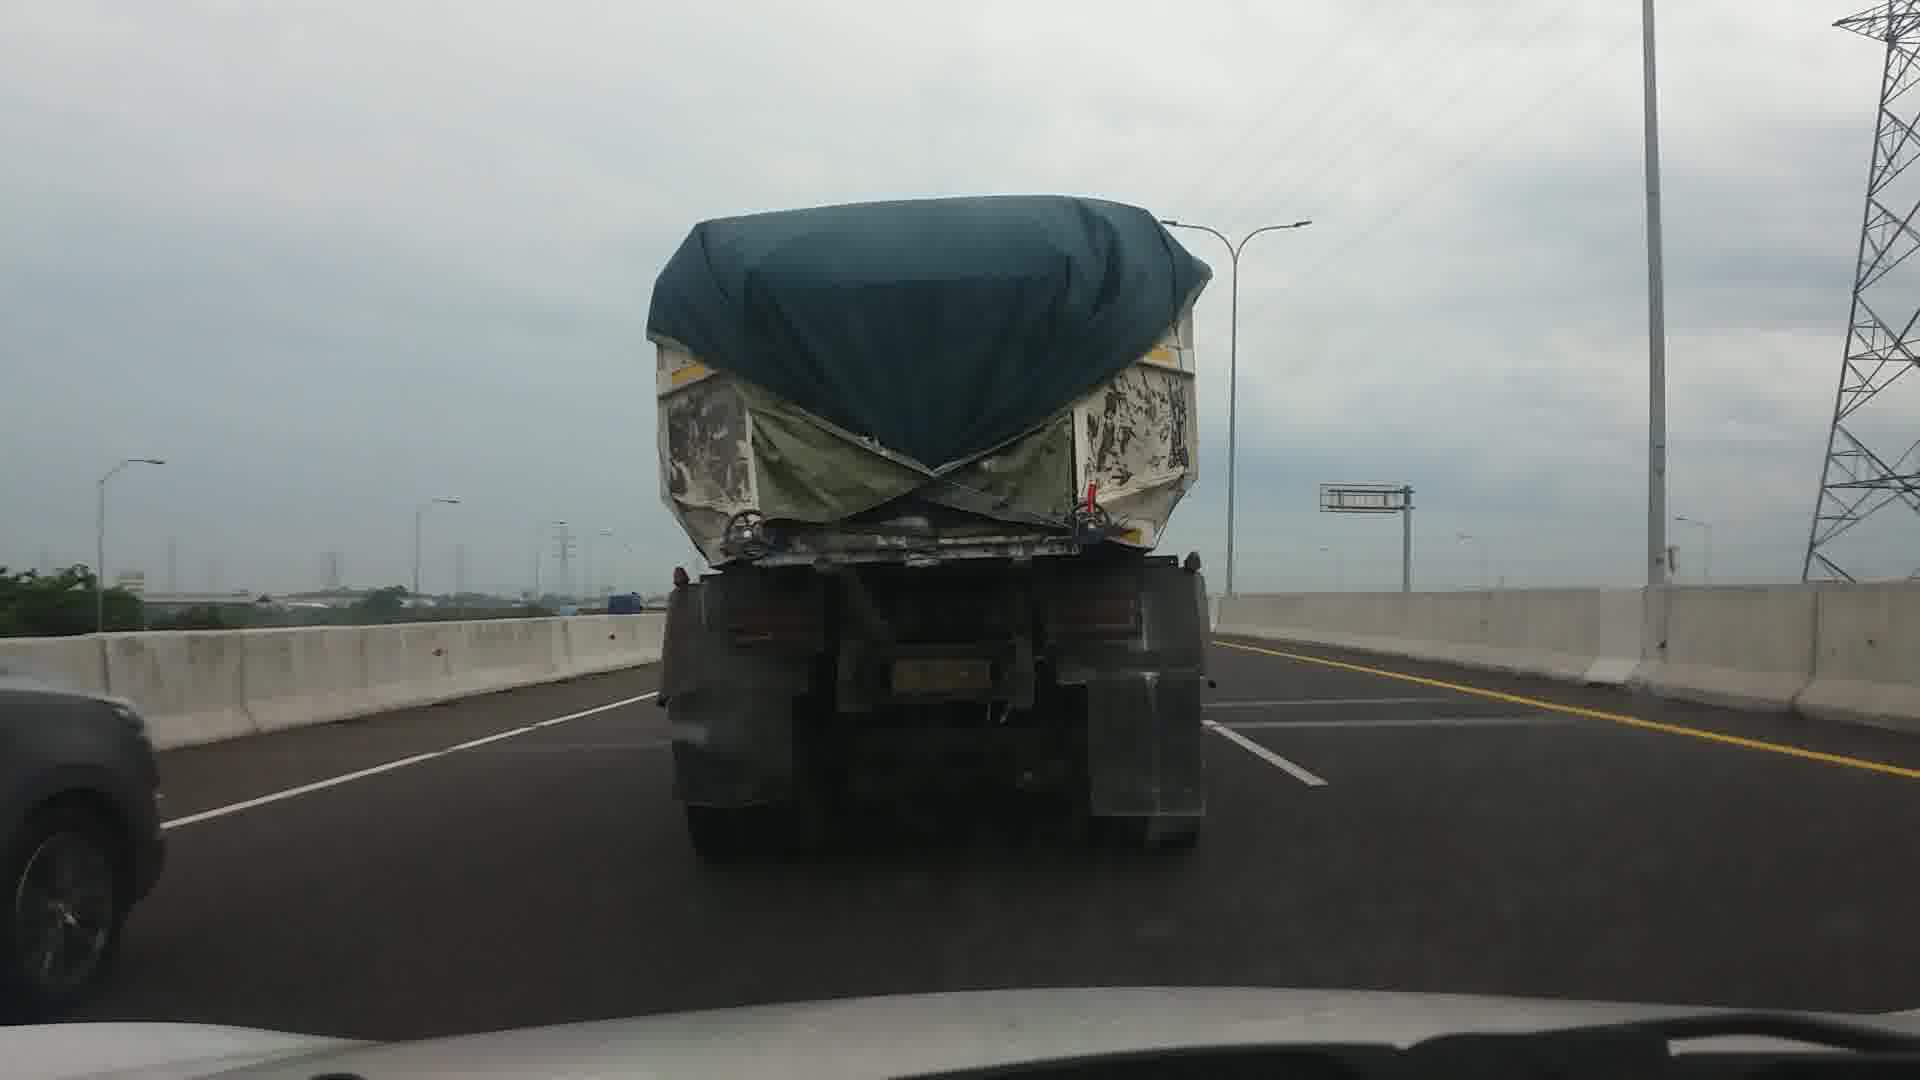plate_positive: (893, 658, 992, 692)
